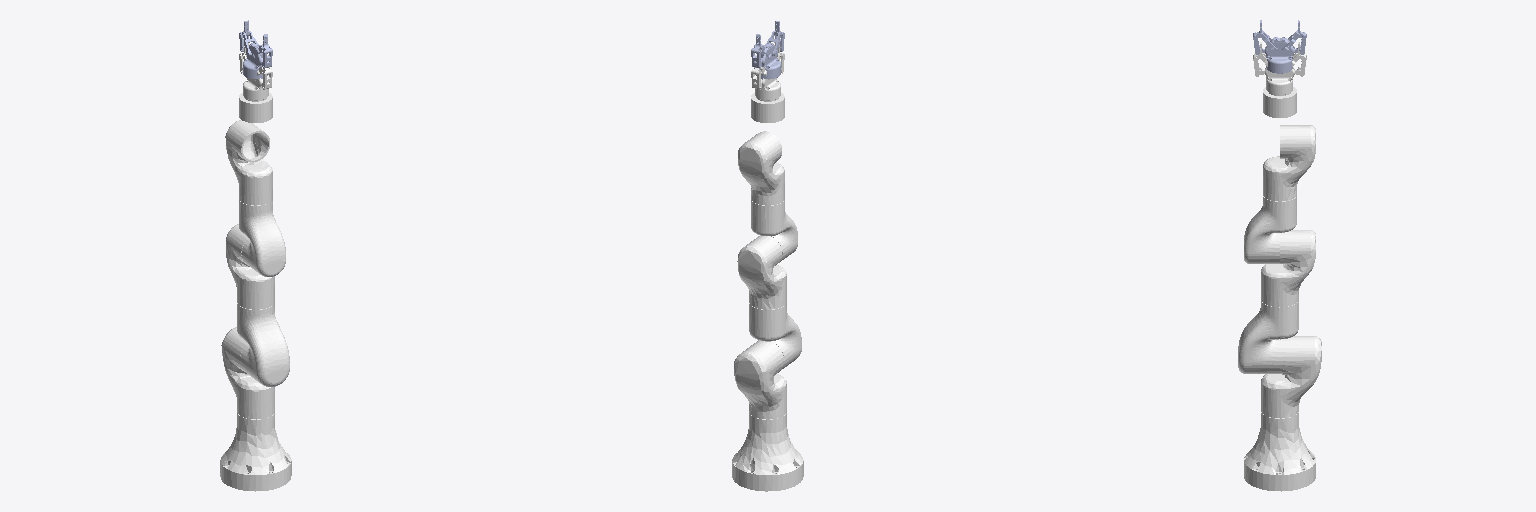
The robot description file, URDF, robot "mantra_description":
<?xml version="1.0" encoding="utf-8"?>
<!-- This URDF was automatically created by SolidWorks to URDF Exporter! Originally created by [author] ([email redacted]) 
     Commit Version: 1.5.0-0-g9aa0fdb  Build Version: 1.5.7004.21443
     For more information, please see http://wiki.ros.org/sw_urdf_exporter -->
<robot
  name="mantra_description">
  <link
    name="base_link">
    <!-- <inertial>
      <origin
        xyz="5.69641035035207E-08 -7.52429850157642E-09 0.0534781808387783"
        rpy="0 0 0" />
      <mass
        value="2.12515524577406" />
      <inertia
        ixx="0.00919560446596015"
        ixy="2.13793974775628E-09"
        ixz="-1.75777317025923E-09"
        iyy="0.00919559841583678"
        iyz="3.46157313095082E-10"
        izz="0.011098052703463" />
    </inertial> -->
    <visual>
      <origin
        xyz="0 0 0"
        rpy="0 0 0" />
      <geometry>
        <mesh
          filename="package://mantra_description/meshes/base_link.STL" />
      </geometry>
      <material
        name="">
        <color
          rgba="1 1 1 1" />
      </material>
    </visual>
    <collision>
      <origin
        xyz="0 0 0"
        rpy="0 0 0" />
      <geometry>
        <mesh
          filename="package://mantra_description/meshes/base_link.STL" />
      </geometry>
    </collision>
  </link>
  <link
    name="link1">
    <inertial>
      <origin
        xyz="3.33697354947896E-06 0.0376725326992402 0.113954575937932"
        rpy="0 0 0" />
      <mass
        value="0.449846417611502" />
      <inertia
        ixx="0.00281542194513947"
        ixy="-2.97928363529748E-08"
        ixz="2.31552459199413E-09"
        iyy="0.00237879024815951"
        iyz="-0.000689611051918419"
        izz="0.00161666621542504" />
    </inertial>
    <visual>
      <origin
        xyz="0 0 0"
        rpy="0 0 0" />
      <geometry>
        <mesh
          filename="package://mantra_description/meshes/link1.STL" />
      </geometry>
      <material
        name="">
        <color
          rgba="1 1 1 1" />
      </material>
    </visual>
    <collision>
      <origin
        xyz="0 0 0"
        rpy="0 0 0" />
      <geometry>
        <mesh
          filename="package://mantra_description/meshes/link1.STL" />
      </geometry>
    </collision>
  </link>
  <joint
    name="joint1"
    type="revolute">
    <origin
      xyz="0 0 0.2005"
      rpy="0 0 0" />
    <parent
      link="base_link" />
    <child
      link="link1" />
    <axis
      xyz="0 0 -1" />
    <limit
      lower="-1.5708"
      upper="1.5708"
      effort="100"
      velocity="1" />
  </joint>
  <link
    name="link2">
    <inertial>
      <origin
        xyz="3.33697354946443E-06 0.0560454240620686 0.0376725326992408"
        rpy="0 0 0" />
      <mass
        value="0.449846417611509" />
      <inertia
        ixx="0.00281542194513949"
        ixy="-2.31552459225296E-09"
        ixz="-2.97928363555503E-08"
        iyy="0.00161666621542506"
        iyz="0.000689611051918419"
        izz="0.00237879024815952" />
    </inertial>
    <visual>
      <origin
        xyz="0 0 0"
        rpy="0 0 0" />
      <geometry>
        <mesh
          filename="package://mantra_description/meshes/link2.STL" />
      </geometry>
      <material
        name="">
        <color
          rgba="1 1 1 1" />
      </material>
    </visual>
    <collision>
      <origin
        xyz="0 0 0"
        rpy="0 0 0" />
      <geometry>
        <mesh
          filename="package://mantra_description/meshes/link2.STL" />
      </geometry>
    </collision>
  </link>
  <joint
    name="joint2"
    type="revolute">
    <origin
      xyz="0 0 0.17"
      rpy="1.5708 0 0" />
    <parent
      link="link1" />
    <child
      link="link2" />
    <axis
      xyz="0 0 -1" />
    <limit
      lower="-1.85"
      upper="1.85"
      effort="100"
      velocity="1" />
  </joint>
  <link
    name="link3">
    <inertial>
      <origin
        xyz="-7.12565212158657E-06 0.0300289146661516 0.103545651609833"
        rpy="0 0 0" />
      <mass
        value="0.392582340089193" />
      <inertia
        ixx="0.0020755242879527"
        ixy="1.39339603463997E-08"
        ixz="-2.85481111340335E-08"
        iyy="0.00178702026485436"
        iyz="-0.000503155834932375"
        izz="0.00121405044233485" />
    </inertial>
    <visual>
      <origin
        xyz="0 0 0"
        rpy="0 0 0" />
      <geometry>
        <mesh
          filename="package://mantra_description/meshes/link3.STL" />
      </geometry>
      <material
        name="">
        <color
          rgba="1 1 1 1" />
      </material>
    </visual>
    <collision>
      <origin
        xyz="0 0 0"
        rpy="0 0 0" />
      <geometry>
        <mesh
          filename="package://mantra_description/meshes/link3.STL" />
      </geometry>
    </collision>
  </link>
  <joint
    name="joint3"
    type="revolute">
    <origin
      xyz="0 0.17 0"
      rpy="-1.5708 0 0" />
    <parent
      link="link2" />
    <child
      link="link3" />
    <axis
      xyz="0 0 -1" />
    <limit
      lower="-1.5708"
      upper="1.5708"
      effort="100"
      velocity="1" />
  </joint>
  <link
    name="link4">
    <inertial>
      <origin
        xyz="9.50435857535385E-07 0.0539665921441028 0.0317108566437211"
        rpy="0 0 0" />
      <mass
        value="0.367226253241491" />
      <inertia
        ixx="0.00189945127986856"
        ixy="1.10761786474966E-08"
        ixz="-3.7570793907639E-09"
        iyy="0.00102605162314097"
        iyz="0.000467411288512599"
        izz="0.00163165412446067" />
    </inertial>
    <visual>
      <origin
        xyz="0 0 0"
        rpy="0 0 0" />
      <geometry>
        <mesh
          filename="package://mantra_description/meshes/joint4.STL" />
      </geometry>
      <material
        name="">
        <color
          rgba="1 1 1 1" />
      </material>
    </visual>
    <collision>
      <origin
        xyz="0 0 0"
        rpy="0 0 0" />
      <geometry>
        <mesh
          filename="package://mantra_description/meshes/joint4.STL" />
      </geometry>
    </collision>
  </link>
  <joint
    name="joint4"
    type="revolute">
    <origin
      xyz="0 0 0.16"
      rpy="1.5708 0 0" />
    <parent
      link="link3" />
    <child
      link="link4" />
    <axis
      xyz="0 0 -1" />
    <limit
      lower="-1.85"
      upper="1.85"
      effort="100"
      velocity="1" />
  </joint>
  <link
    name="link5">
    <inertial>
      <origin
        xyz="9.51012096366642E-07 0.0317108567627314 0.106033406535695"
        rpy="0 0 0" />
      <mass
        value="0.36722625401674" />
      <inertia
        ixx="0.00189945125870264"
        ixy="-3.75974500953554E-09"
        ixz="-1.10613008671998E-08"
        iyy="0.00163165410820963"
        iyz="-0.000467411240126133"
        izz="0.00102605163568241" />
    </inertial>
    <visual>
      <origin
        xyz="0 0 0"
        rpy="0 0 0" />
      <geometry>
        <mesh
          filename="package://mantra_description/meshes/link5.STL" />
      </geometry>
      <material
        name="">
        <color
          rgba="1 1 1 1" />
      </material>
    </visual>
    <collision>
      <origin
        xyz="0 0 0"
        rpy="0 0 0" />
      <geometry>
        <mesh
          filename="package://mantra_description/meshes/link5.STL" />
      </geometry>
    </collision>
  </link>
  <joint
    name="joint5"
    type="revolute">
    <origin
      xyz="0 0.16 0"
      rpy="-1.5708 0 0" />
    <parent
      link="link4" />
    <child
      link="link5" />
    <axis
      xyz="0 0 -1" />
    <limit
      lower="-1.5708"
      upper="1.5708"
      effort="100"
      velocity="1" />
  </joint>
  <link
    name="link6">
    <inertial>
      <origin
        xyz="9.50435834836122E-07 0.0539665921440784 0.0317108566434664"
        rpy="0 0 0" />
      <mass
        value="0.367226253239117" />
      <inertia
        ixx="0.00189945137374859"
        ixy="1.10879827351801E-08"
        ixz="-3.81500844085306E-09"
        iyy="0.00102605167941246"
        iyz="0.000467411315869438"
        izz="0.00163165420801843" />
    </inertial>
    <visual>
      <origin
        xyz="0 0 0"
        rpy="0 0 0" />
      <geometry>
        <mesh
          filename="package://mantra_description/meshes/link6.STL" />
      </geometry>
      <material
        name="">
        <color
          rgba="1 1 1 1" />
      </material>
    </visual>
    <collision>
      <origin
        xyz="0 0 0"
        rpy="0 0 0" />
      <geometry>
        <mesh
          filename="package://mantra_description/meshes/link6.STL" />
      </geometry>
    </collision>
  </link>
  <joint
    name="joint6"
    type="revolute">
    <origin
      xyz="0 0 0.16"
      rpy="1.5708 0 0" />
    <parent
      link="link5" />
    <child
      link="link6" />
    <axis
      xyz="0 0 -1" />
    <limit
      lower="-1.85"
      upper="1.85"
      effort="100"
      velocity="1" />
  </joint>
  <link
    name="link7">
    <inertial>
      <origin
        xyz="7.91773891106126E-17 -1.10416395174545E-05 0.0404968347411467"
        rpy="0 0 0" />
      <mass
        value="0.14043817532843" />
      <inertia
        ixx="0.000166560052257127"
        ixy="3.72741884645633E-20"
        ixz="-8.7076688740022E-20"
        iyy="0.000166602712740968"
        iyz="2.78725555163461E-08"
        izz="0.000232492320290339" />
    </inertial>
    <visual>
      <origin
        xyz="0 0 0"
        rpy="0 0 0" />
      <geometry>
        <mesh
          filename="package://mantra_description/meshes/link7.STL" />
      </geometry>
      <material
        name="">
        <color
          rgba="1 1 1 1" />
      </material>
    </visual>
    <collision>
      <origin
        xyz="0 0 0"
        rpy="0 0 0" />
      <geometry>
        <mesh
          filename="package://mantra_description/meshes/link7.STL" />
      </geometry>
    </collision>
  </link>
  <joint
    name="joint7"
    type="revolute">
    <origin
      xyz="0 0.16 0"
      rpy="-1.5708 0 0" />
    <parent
      link="link6" />
    <child
      link="link7" />
    <axis
      xyz="0 0 -1" />
    <limit
      lower="-1.5708"
      upper="1.5708"
      effort="100"
      velocity="1" />
  </joint>
  <link
    name="gripper">
    <inertial>
      <origin
        xyz="5.62206240665474E-07 3.00957007919871E-05 -0.838686124360706"
        rpy="0 0 0" />
      <mass
        value="4.65959936378476" />
      <inertia
        ixx="0.733167737230715"
        ixy="5.4495923074898E-08"
        ixz="-1.43570428467062E-06"
        iyy="0.72846366486061"
        iyz="0.00112567728047823"
        izz="0.0215950330422125" />
    </inertial>
    <visual>
      <origin
        xyz="0 0 0"
        rpy="0 0 0" />
      <geometry>
        <mesh
          filename="package://mantra_description/meshes/gripper.STL" />
      </geometry>
      <material
        name="">
        <color
          rgba="0.792156862745098 0.819607843137255 0.933333333333333 1" />
      </material>
    </visual>
    <collision>
      <origin
        xyz="0 0 0"
        rpy="0 0 0" />
      <geometry>
        <mesh
          filename="package://mantra_description/meshes/gripper.STL" />
      </geometry>
    </collision>
  </link>
  <joint
    name="gripper"
    type="fixed">
    <origin
      xyz="0 0 0.0655"
      rpy="0 0 0" />
    <parent
      link="link7" />
    <child
      link="gripper" />
    <axis
      xyz="0 0 0" />
    <limit
      lower="-1.85"
      upper="1.85"
      effort="100"
      velocity="1" />
  </joint>
</robot>

--- Facts derived from the render (not from the file) ---
Views: 3 orthographic renders of the robot side by side, from view 1: azimuth 30°, elevation 25°; view 2: azimuth 150°, elevation 25°; view 3: azimuth 270°, elevation 25°.
Model mantra_description with 9 links and 8 joints (7 revolute, 1 fixed), rooted at base_link, posed every joint at zero.
Visible links, largest first — view 1: base_link, link2, link5, link4, link1, link3, link7, gripper; view 2: base_link, link1, link3, link5, link2, link4, link7, gripper; view 3: base_link, link1, link2, link3, link5, link4, link7, gripper.
Boxes of the visible links, bbox=[...] form: base_link: bbox=[220, 413, 291, 491]; link2: bbox=[237, 303, 289, 386]; link5: bbox=[225, 120, 272, 205]; link4: bbox=[239, 200, 285, 276]; link1: bbox=[221, 327, 274, 419]; link3: bbox=[226, 224, 274, 309]; link7: bbox=[239, 43, 272, 122]; gripper: bbox=[239, 20, 272, 78]; base_link: bbox=[732, 413, 803, 491]; link1: bbox=[734, 341, 786, 419]; link3: bbox=[737, 236, 786, 309]; link5: bbox=[738, 131, 784, 205]; link2: bbox=[749, 303, 801, 369]; link4: bbox=[751, 200, 797, 262]; link7: bbox=[751, 43, 784, 122]; gripper: bbox=[751, 21, 784, 79]; base_link: bbox=[1244, 412, 1315, 491]; link1: bbox=[1261, 336, 1321, 418]; link2: bbox=[1238, 301, 1298, 373]; link3: bbox=[1261, 230, 1315, 306]; link5: bbox=[1263, 125, 1315, 201]; link4: bbox=[1244, 196, 1296, 263]; link7: bbox=[1253, 42, 1306, 117]; gripper: bbox=[1253, 20, 1306, 73].
Bounding box of the posed robot: 0.1998 × 0.231 × 1.39 m (x, y, z).
8 mesh visuals loaded from 9 distinct referenced files (8 binary STL); not drawn: 1 (reference not matched to a file when rendering).